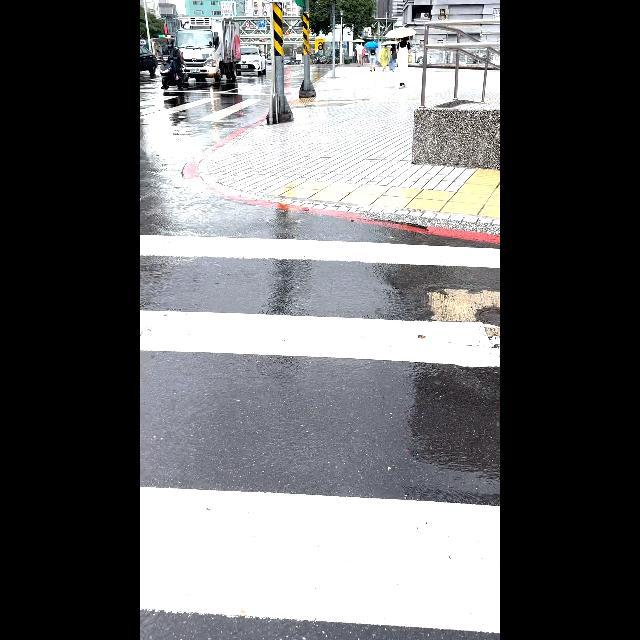sidewalk: (140, 225, 500, 635)
